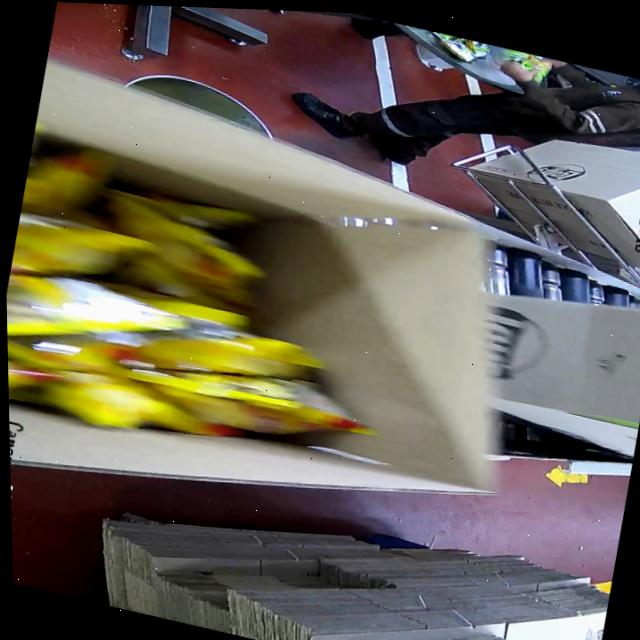SALTED: (3, 135, 379, 476)
